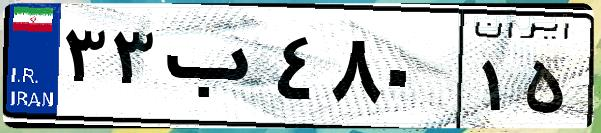0: (385, 28, 445, 110)
1: (475, 38, 525, 113)
3: (57, 26, 110, 100), (110, 28, 158, 98)
4: (270, 28, 330, 110)
5: (525, 38, 570, 115)
8: (330, 28, 385, 110)
ب: (158, 20, 270, 120)
